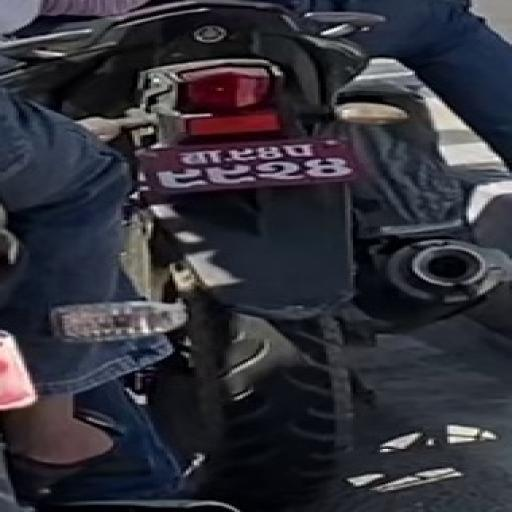license_plate: (130, 133, 380, 200)
